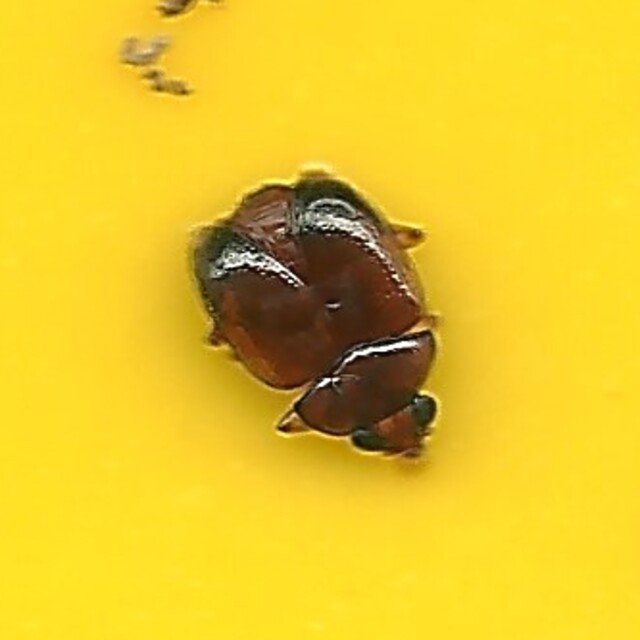Coleoptera: (192, 176, 448, 464)
